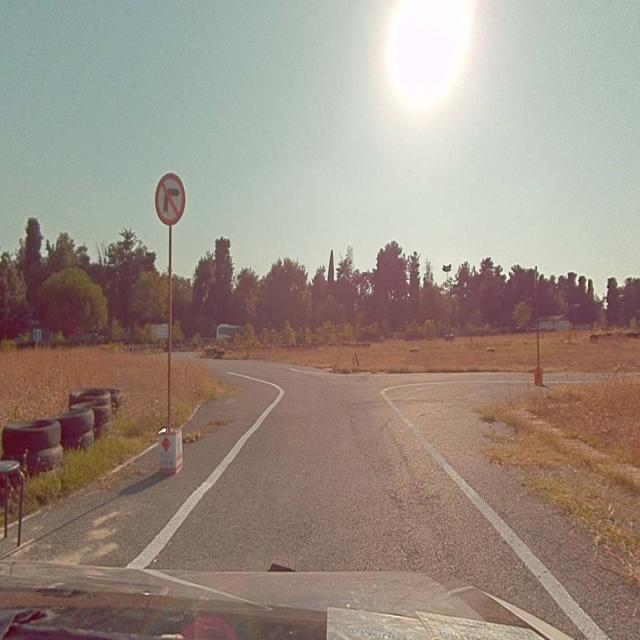sagadonulmez: (155, 173, 186, 223)
